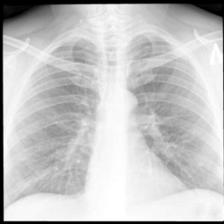tuberculosis: (3, 26, 224, 211)
